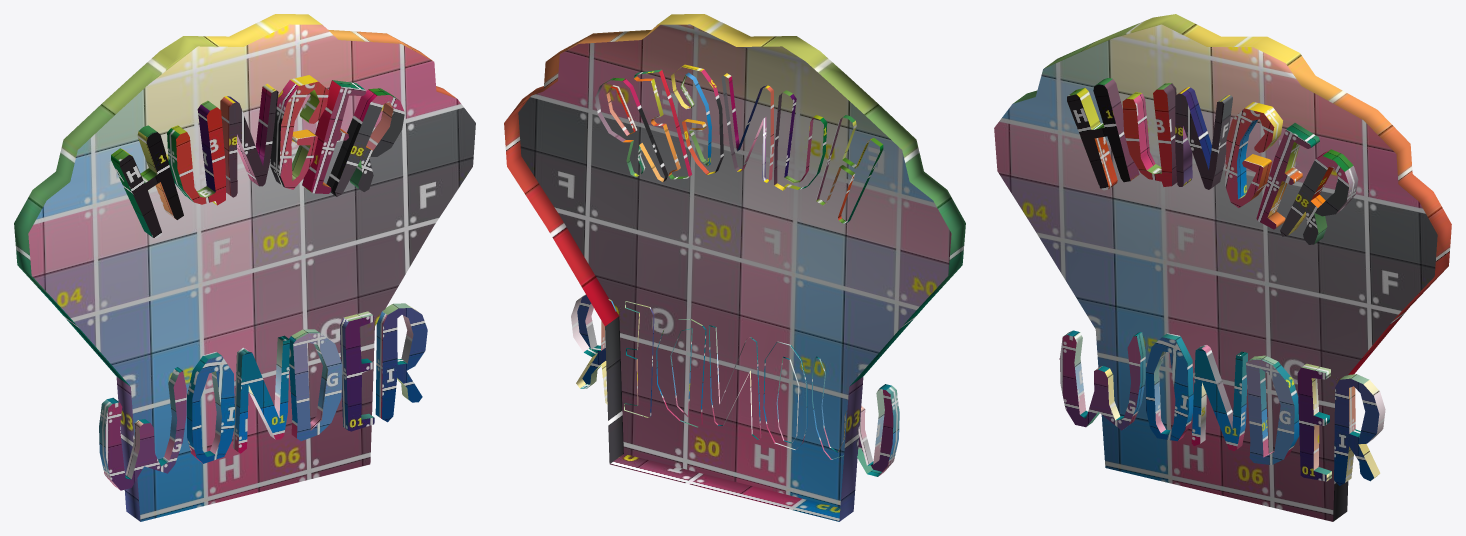
The model's file is Hunger_low.fbx.
3 views of the same model, side by side, from view 1: azimuth 30°, elevation 25°; view 2: azimuth 150°, elevation 25°; view 3: azimuth 330°, elevation 25° (orthographic).
Visible parts, largest first — view 1: Chef_low, Wonder_low, Hunger_low; view 2: Chef_low, Hunger_low, Wonder_low; view 3: Chef_low, Wonder_low, Hunger_low.
Boxes of the visible parts, x1=… form: Chef_low: x1=14, y1=14, x2=475, y2=521; Wonder_low: x1=99, y1=303, x2=427, y2=490; Hunger_low: x1=111, y1=75, x2=404, y2=238; Chef_low: x1=504, y1=14, x2=965, y2=521; Hunger_low: x1=595, y1=64, x2=883, y2=223; Wonder_low: x1=571, y1=294, x2=899, y2=476; Chef_low: x1=994, y1=14, x2=1451, y2=521; Wonder_low: x1=1059, y1=330, x2=1385, y2=485; Hunger_low: x1=1067, y1=78, x2=1358, y2=244.
Size of the model in its own units: 870 by 858 by 78.62.
Materials: 2 (2 with a texture image).
